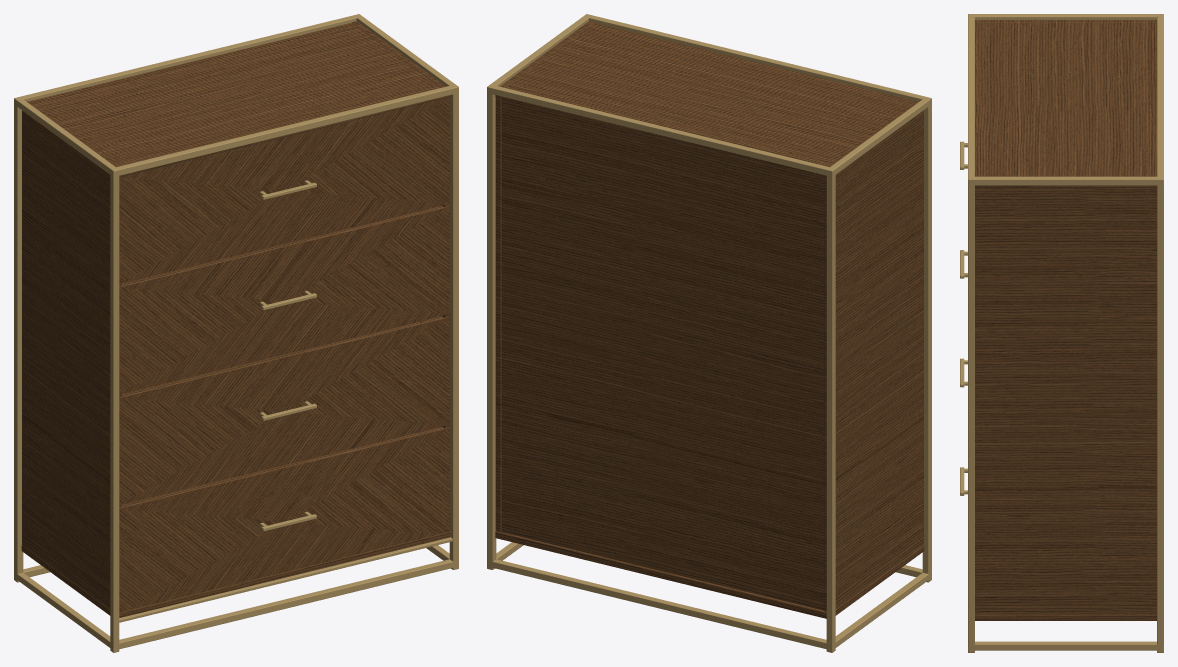
3 views of the same model, side by side, from view 1: azimuth 30°, elevation 25°; view 2: azimuth 150°, elevation 25°; view 3: azimuth 270°, elevation 25° (orthographic).
Parts seen in each view (by area): view 1: SIENNA LV463-B51 | LV463-B51-01 optimized, Tallboy visible drawer 2 sliding pivot optimized, Tallboy visible drawer 3 sliding pivot optimized, Tallboy visible drawer 1 sliding pivot optimized, Tallboy visible drawer 4 sliding pivot optimized; view 2: SIENNA LV463-B51 | LV463-B51-01 optimized; view 3: SIENNA LV463-B51 | LV463-B51-01 optimized.
Boxes of the visible parts, x1,y1,x2,y2 form: SIENNA LV463-B51 | LV463-B51-01 optimized: (14, 14, 458, 652); Tallboy visible drawer 2 sliding pivot optimized: (119, 316, 449, 504); Tallboy visible drawer 3 sliding pivot optimized: (119, 206, 449, 394); Tallboy visible drawer 1 sliding pivot optimized: (119, 427, 449, 612); Tallboy visible drawer 4 sliding pivot optimized: (119, 97, 449, 283); SIENNA LV463-B51 | LV463-B51-01 optimized: (487, 14, 931, 652); SIENNA LV463-B51 | LV463-B51-01 optimized: (968, 14, 1163, 652).
Bounding box in the file's own units: 0.9 × 1.2 × 0.468.
Materials: 4 (2 with a texture image).
